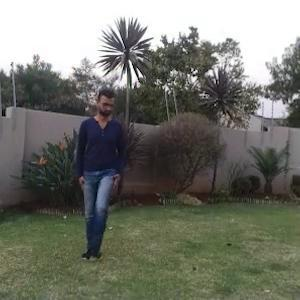follow: (64, 71, 132, 270)
